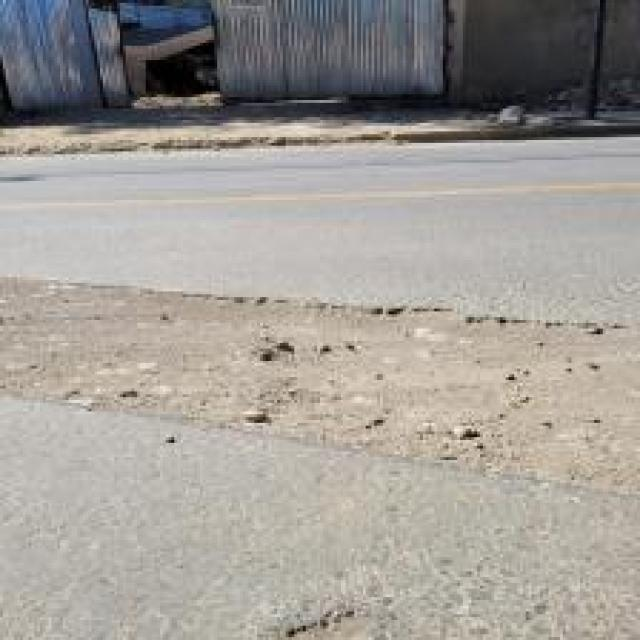BACHE: (2, 277, 639, 492)
GRIETA: (283, 609, 354, 639)
